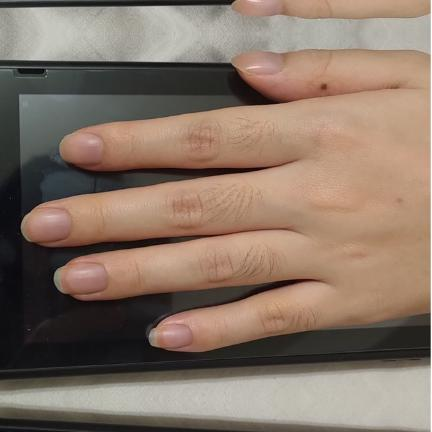Nail: (21, 206, 72, 243), (53, 261, 107, 295), (59, 130, 103, 165), (232, 51, 285, 74), (148, 324, 193, 349), (232, 0, 285, 15)
